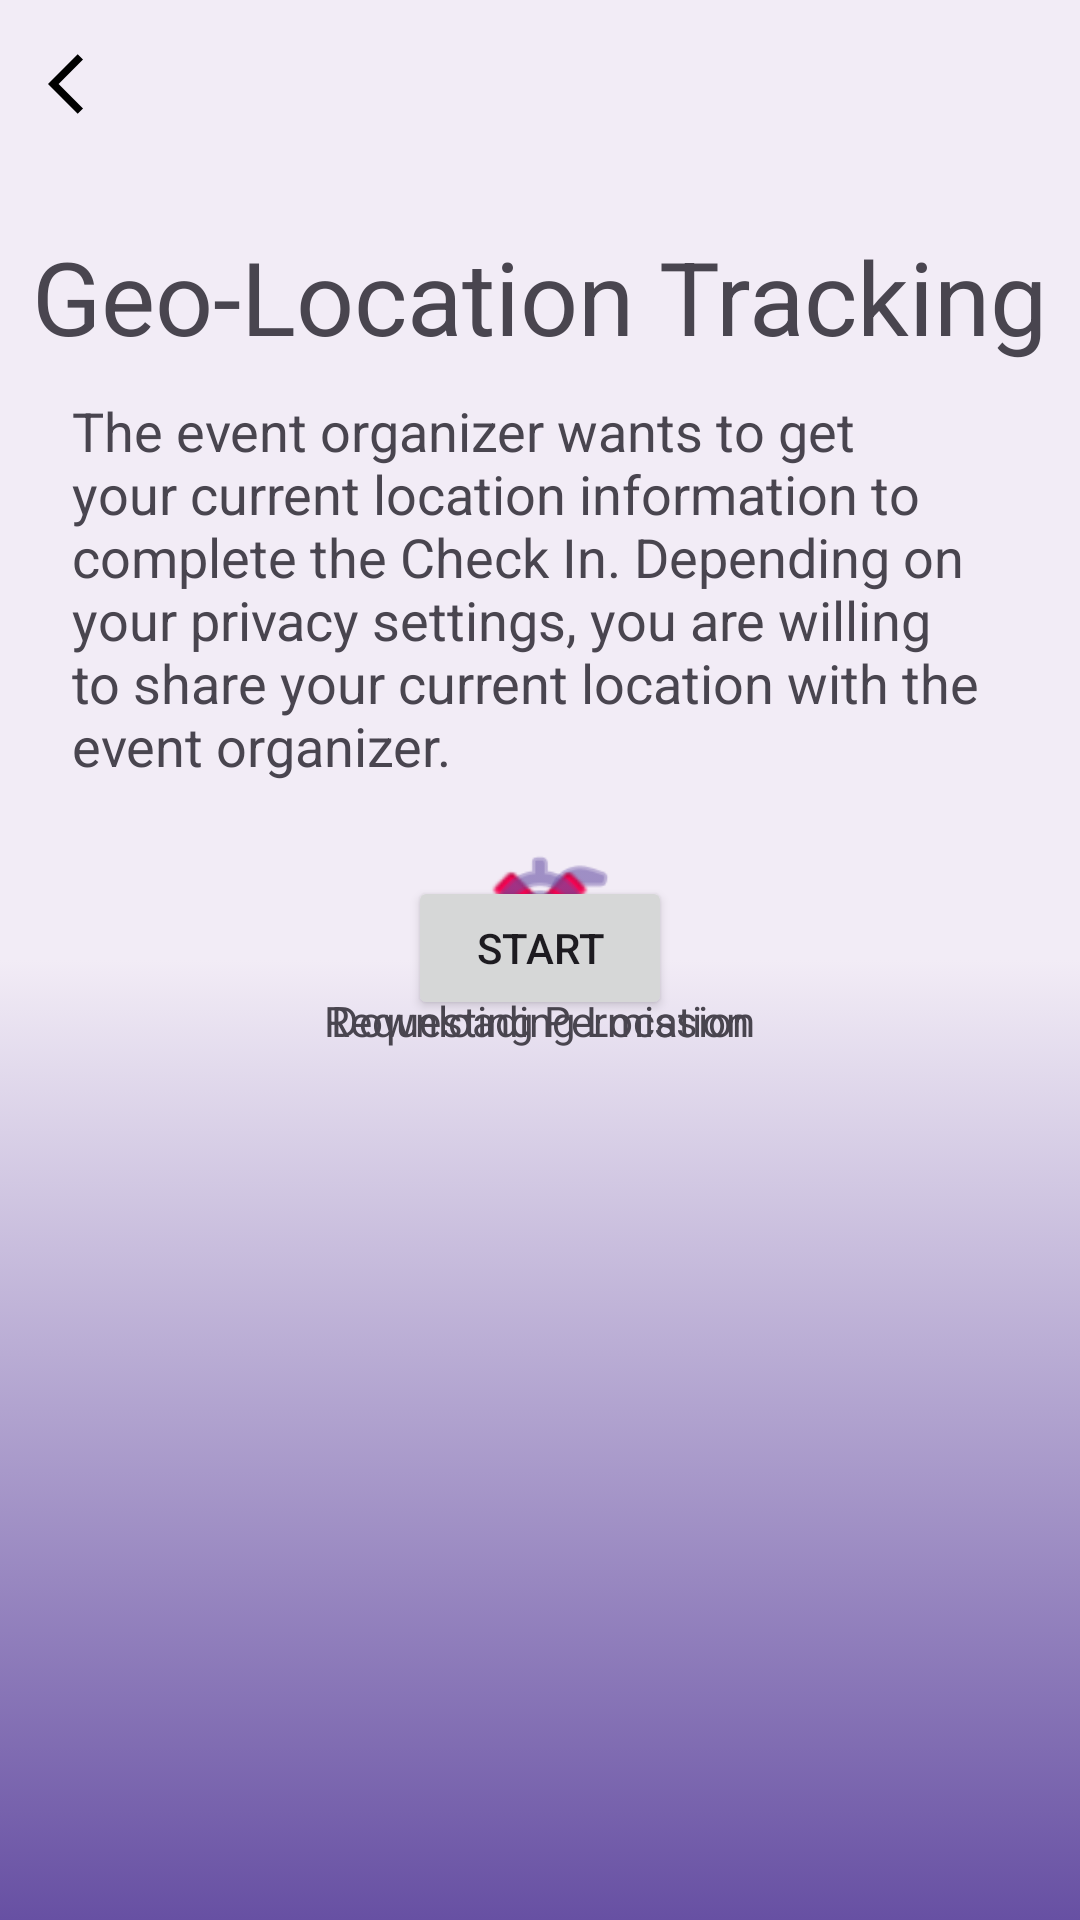

Icons on this 1080×1920 Android screen, each with its box as (x1, y1, x2, y2):
back arrow: (48, 54, 83, 114)
